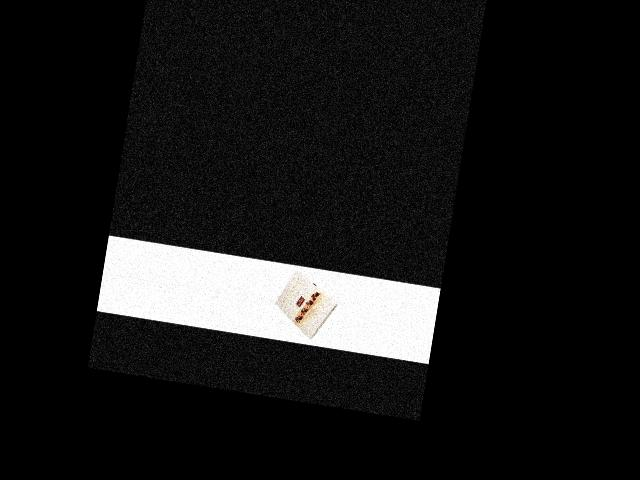chocolate: (270, 268, 343, 347)
